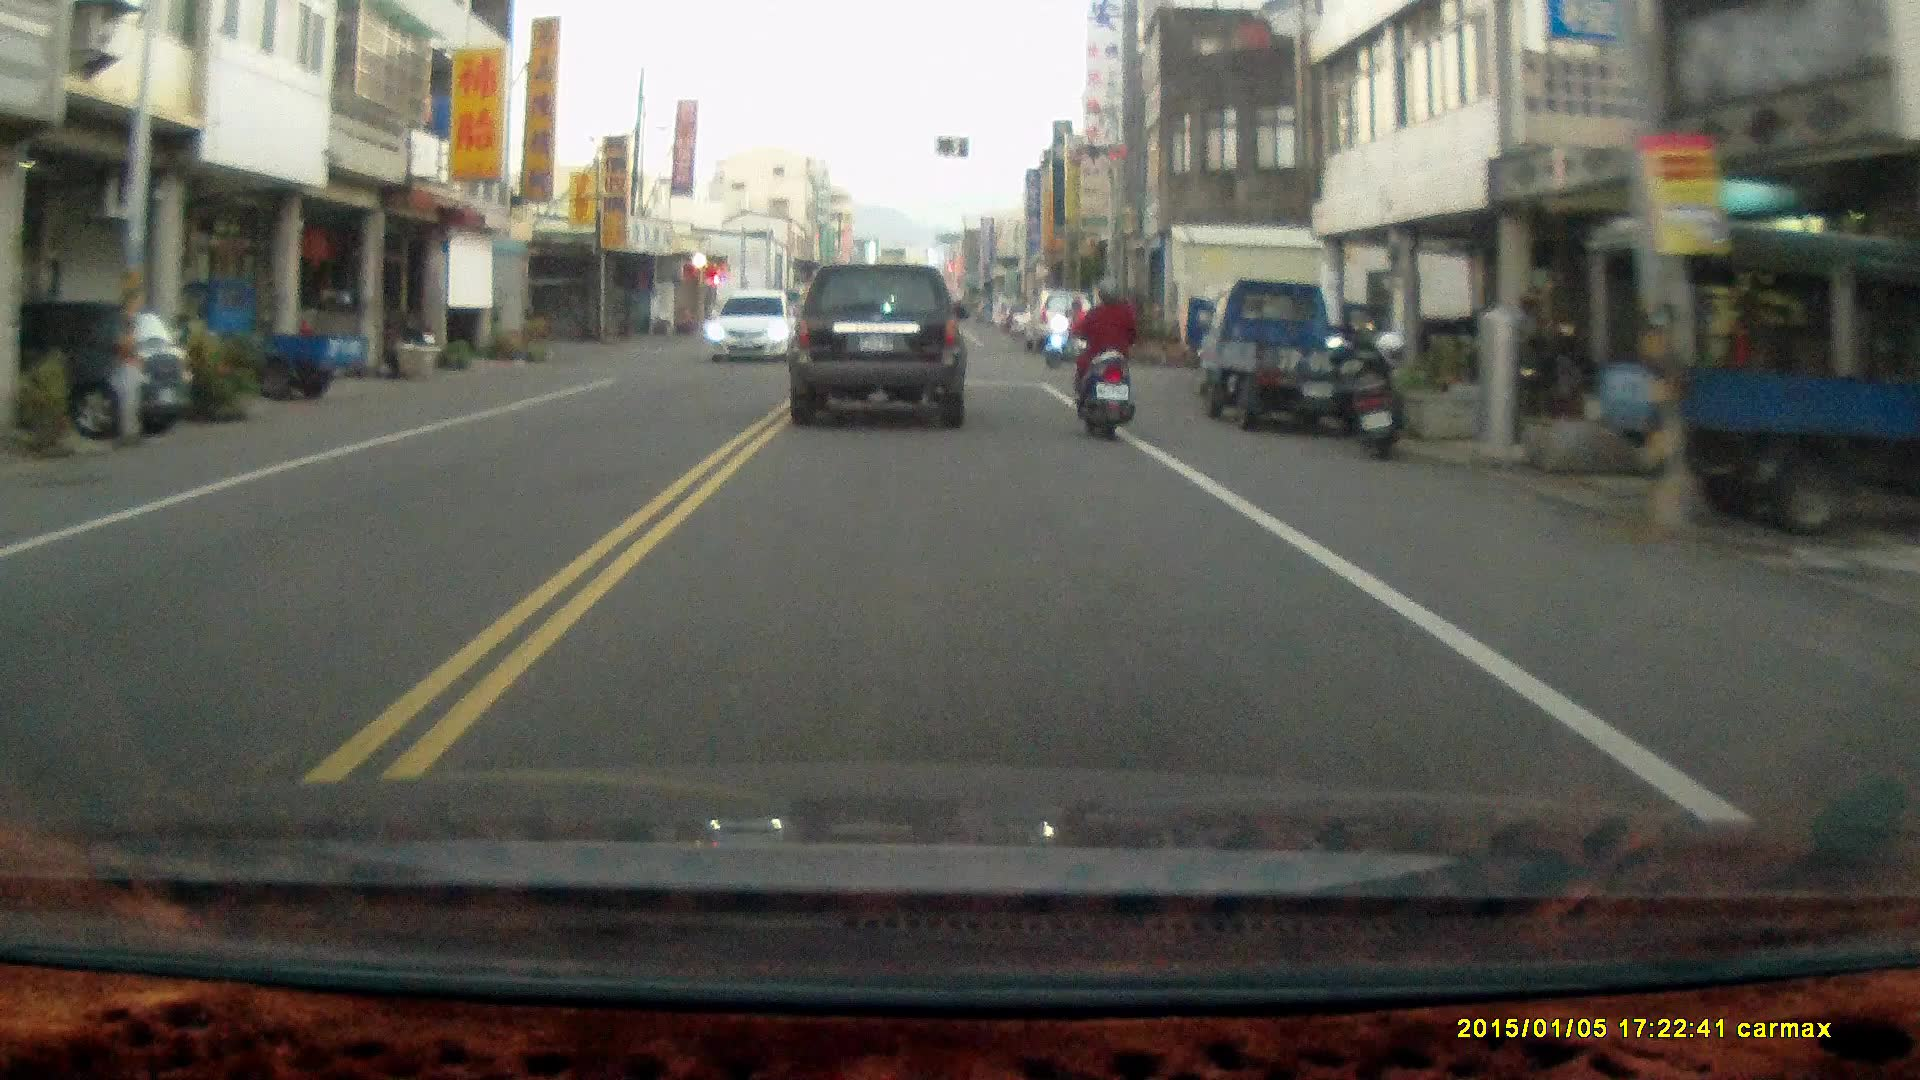rider: (1075, 272, 1136, 438), (1041, 295, 1089, 364)
vehicle: (1593, 216, 1920, 530), (791, 257, 971, 426), (1199, 278, 1398, 430), (1, 298, 189, 439), (163, 276, 371, 400), (707, 289, 800, 365)
